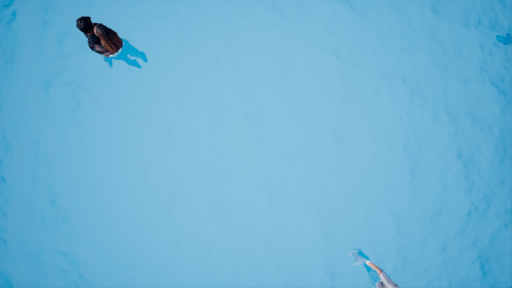person: (68, 14, 152, 70), (348, 235, 411, 288)
